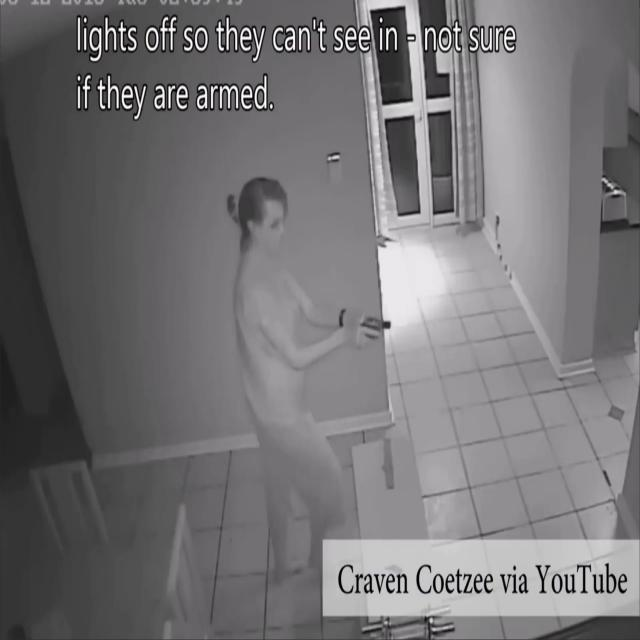gun: (356, 314, 392, 343)
